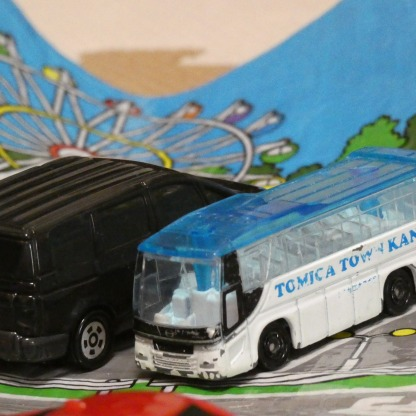car: (133, 150, 416, 384), (0, 155, 266, 370)
